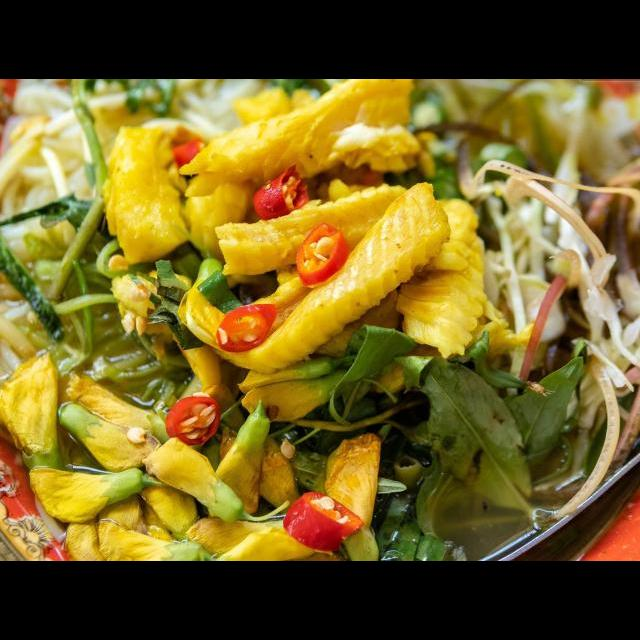bun: (0, 94, 97, 403)
bun ca: (0, 98, 640, 561)
ca: (177, 168, 454, 382), (177, 80, 426, 180), (392, 194, 491, 375), (100, 112, 197, 278)
rau ram: (209, 321, 588, 561)
